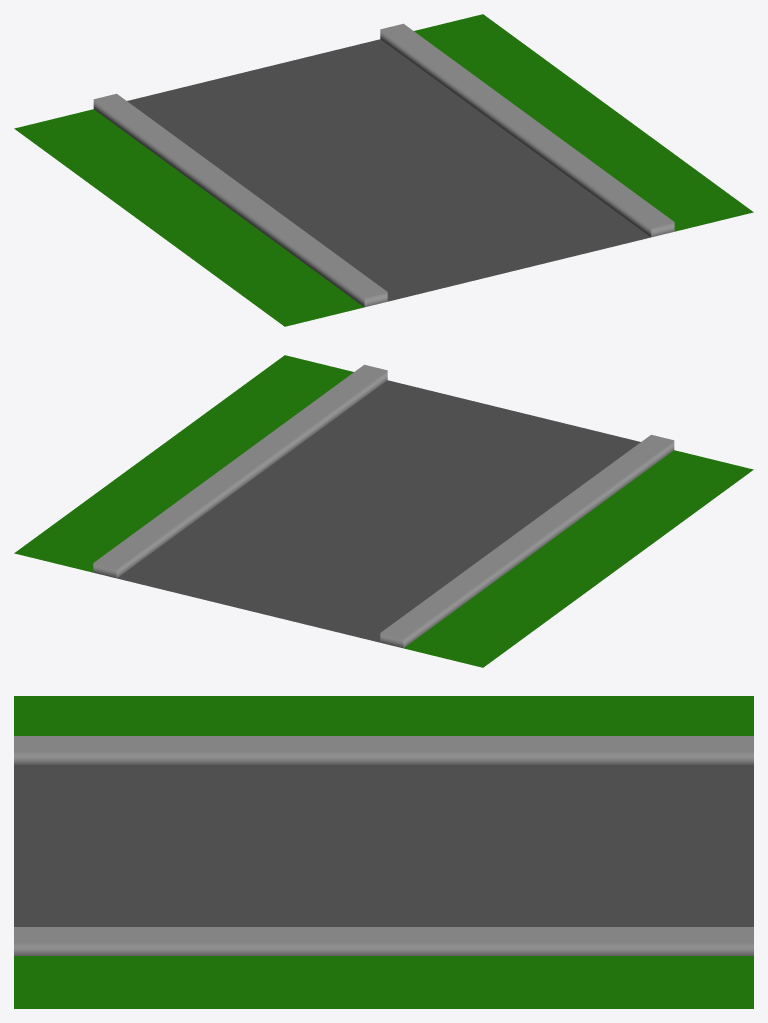
The model's file is ground_pathStraight.fbx.
The picture shows the model from 3 angles, top to bottom: view 1: azimuth 30°, elevation 25°; view 2: azimuth 150°, elevation 25°; view 3: azimuth 270°, elevation 25°; orthographic projection. The views are drawn at different scales.
Parts seen in each view (by area): view 1: ground_pathStraight; view 2: ground_pathStraight; view 3: ground_pathStraight.
Boxes of the visible parts, x1,y1,x2,y2 form: ground_pathStraight: (14,14,753,326); ground_pathStraight: (14,355,753,667); ground_pathStraight: (14,696,753,1008).
Size of the model in its own units: 100 by 2 by 100.
